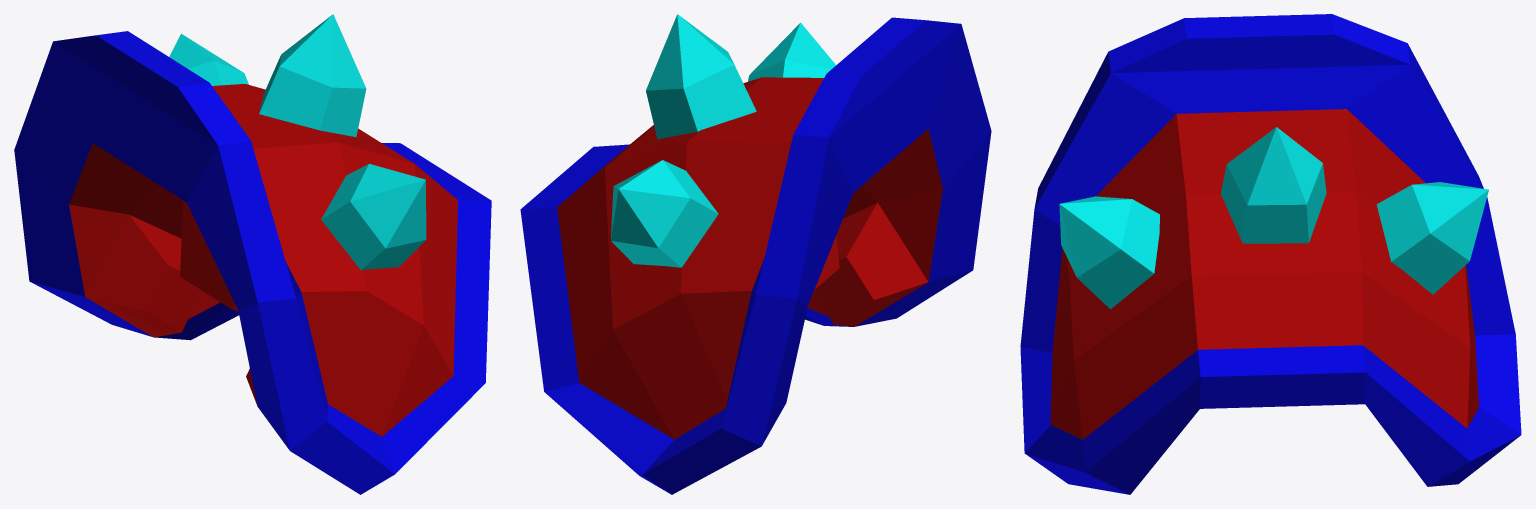
File: Chr_ShoulderAttachLeft_Static_10.fbx
The picture shows the model from 3 angles, left to right: view 1: azimuth 30°, elevation 25°; view 2: azimuth 150°, elevation 25°; view 3: azimuth 270°, elevation 25°; orthographic projection.
Visible parts, largest first — view 1: Chr_ShoulderAttachLeft_10; view 2: Chr_ShoulderAttachLeft_10; view 3: Chr_ShoulderAttachLeft_10.
Part boxes in pixels (x1,y1,x2,y2): Chr_ShoulderAttachLeft_10: (14,14,491,494); Chr_ShoulderAttachLeft_10: (520,14,991,494); Chr_ShoulderAttachLeft_10: (1020,14,1521,494).
Size of the model in its own units: 25.88 by 28.29 by 32.7.
